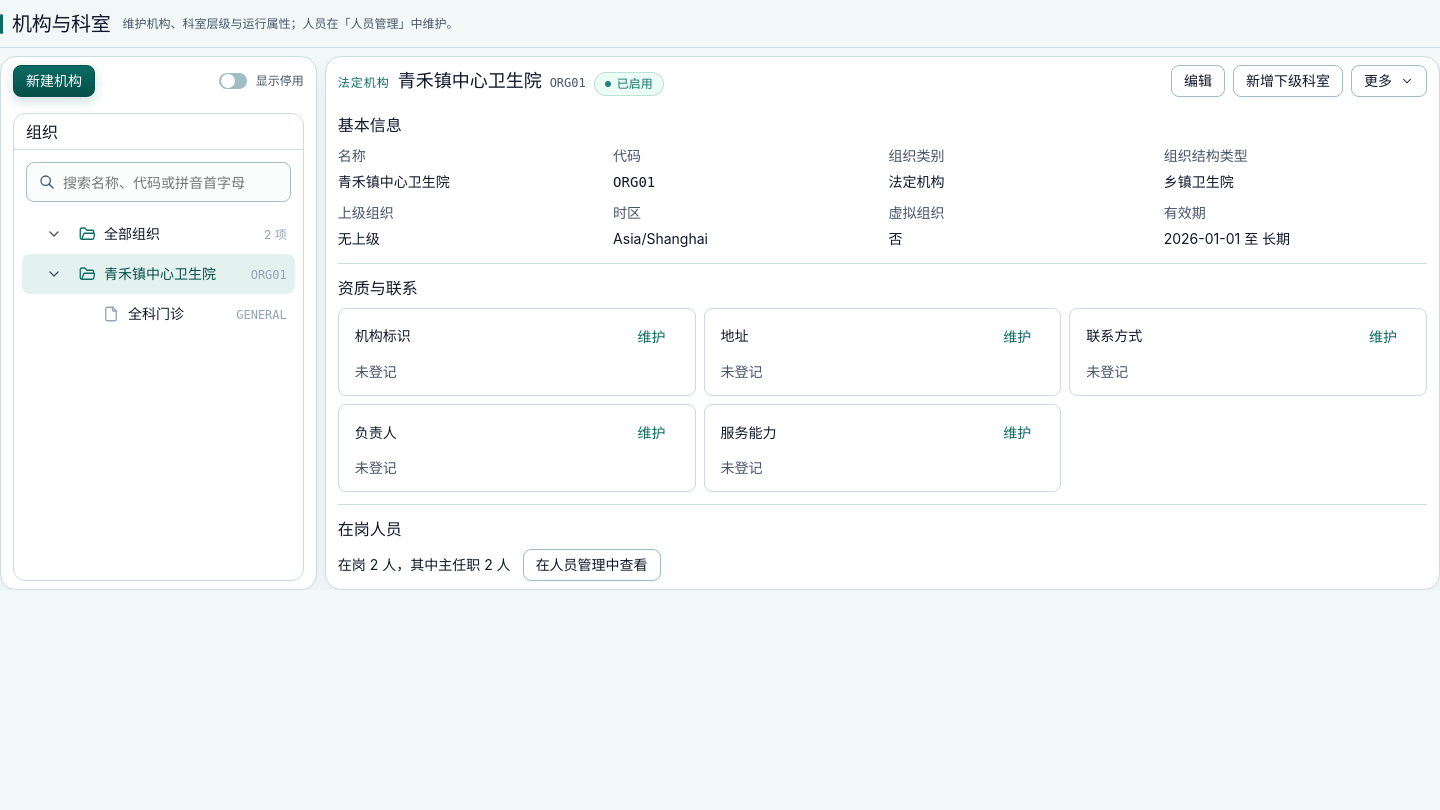
OrganizationsPage › edits basic information in a dialog with validity dates under more settings
The image size is (1440, 810).
Expected: the heading "青禾镇中心卫生院" is shown, [398, 66, 542, 94]
Click the button "编辑". click: x=1198, y=81
box: [1171, 65, 1225, 97]
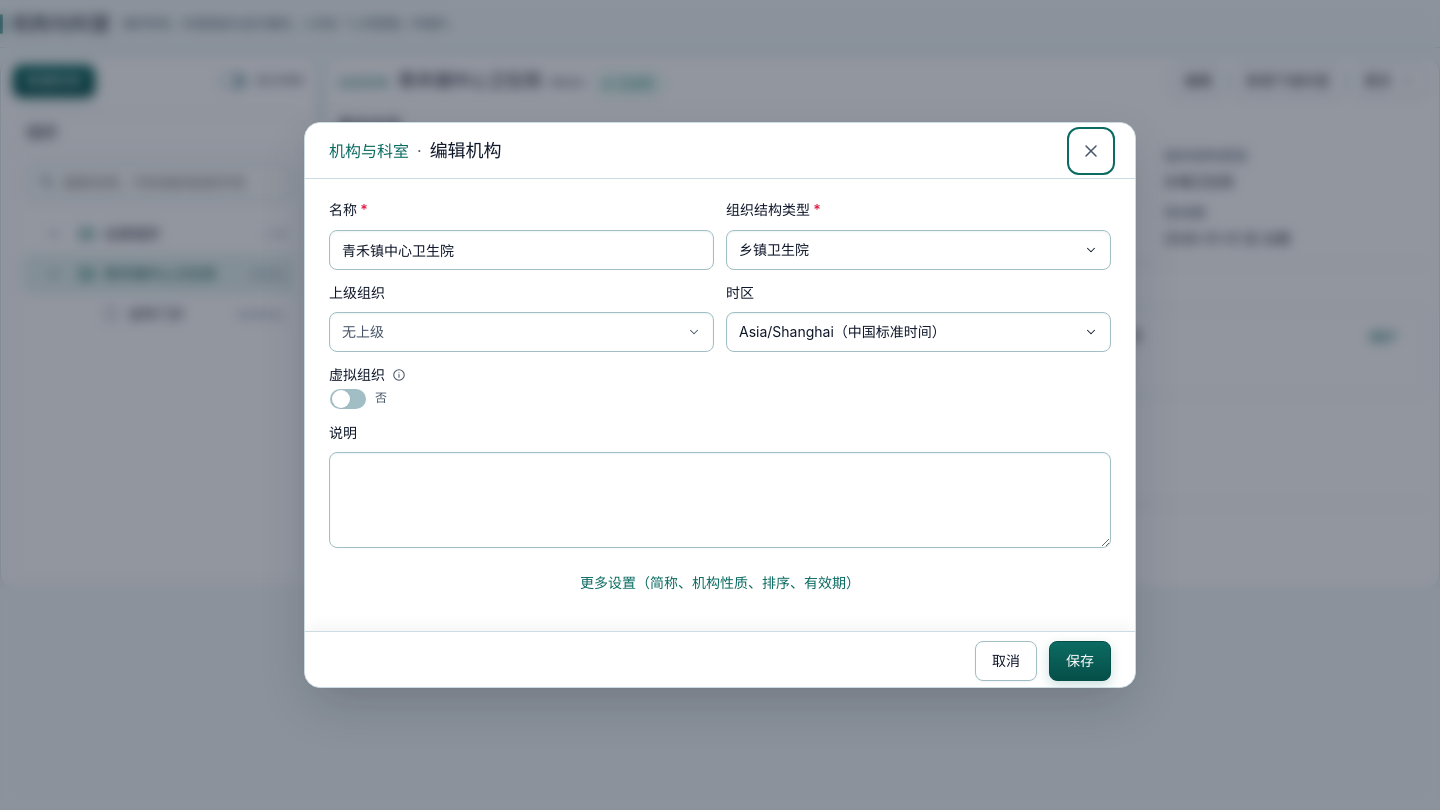
Expected: the field labelled "生效日期" is not shown
Click the button "更多设置（简称、机构性质、排序、有效期）". click: x=720, y=583
box: [329, 567, 1111, 599]
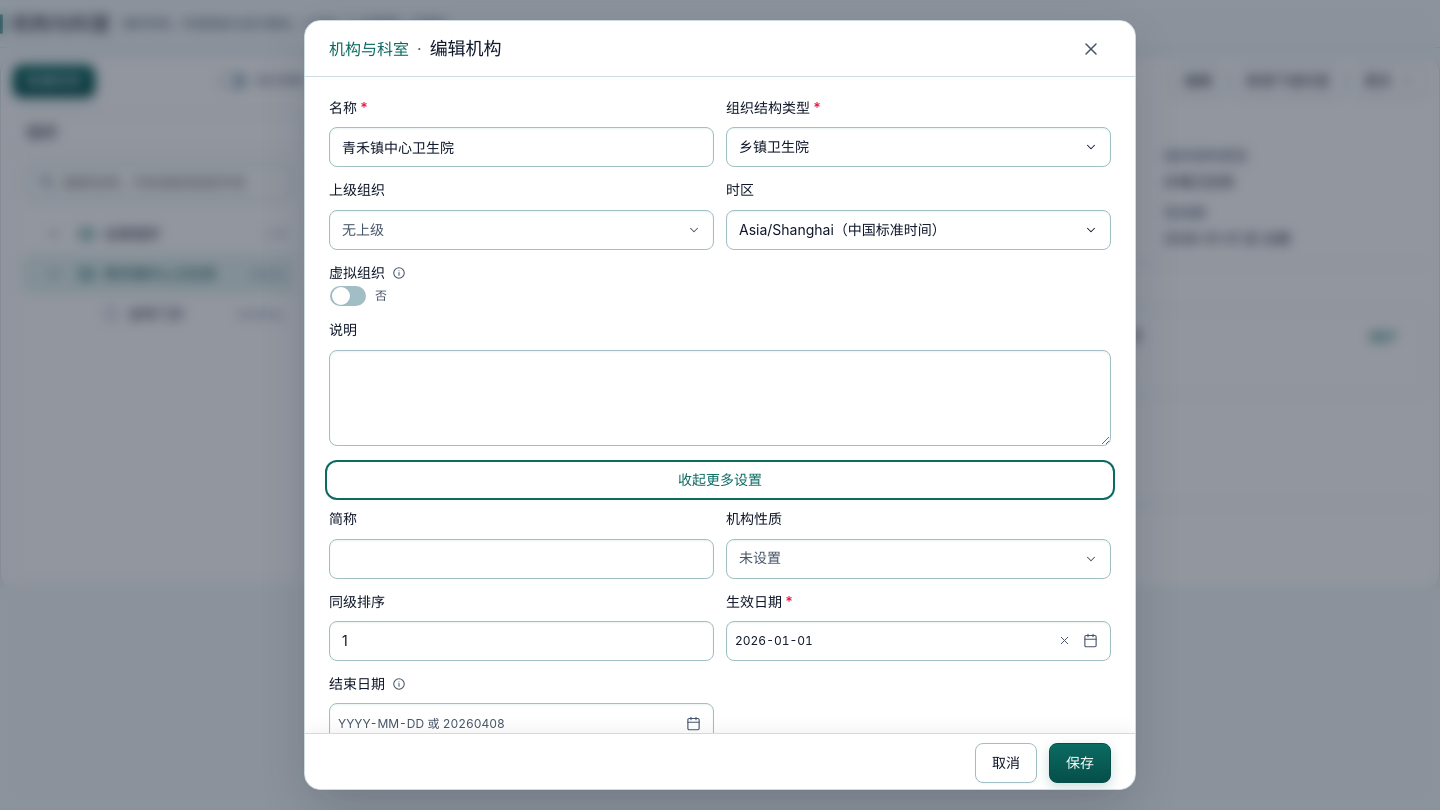
Now the field labelled "生效日期*" is shown, box [735, 622, 1050, 660]
Replace the text in the field labelled "名称*" with "青禾镇卫生院". click: x=522, y=147
box: [329, 127, 714, 167]
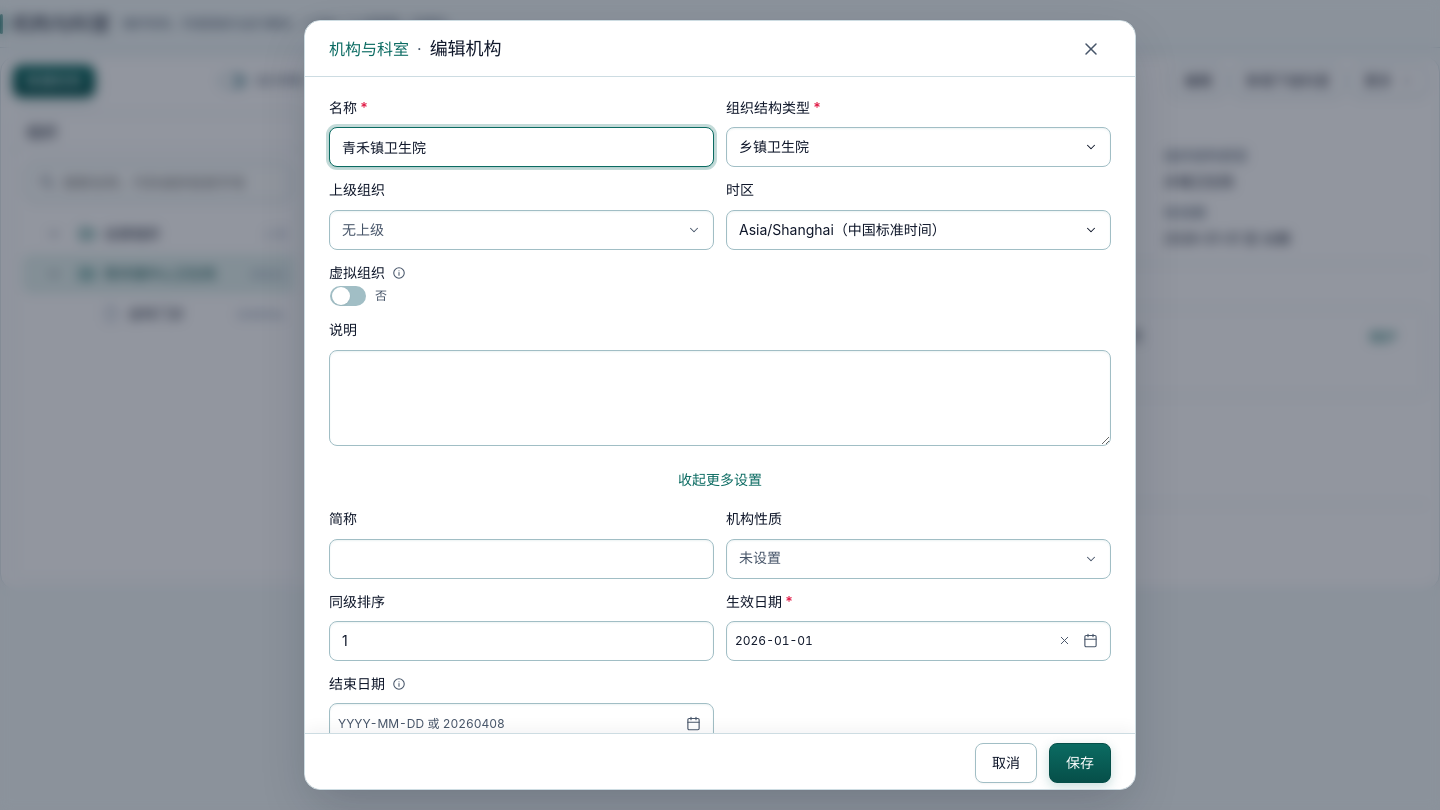
Click the button "保存". click: x=1080, y=764
box: [1049, 744, 1111, 784]
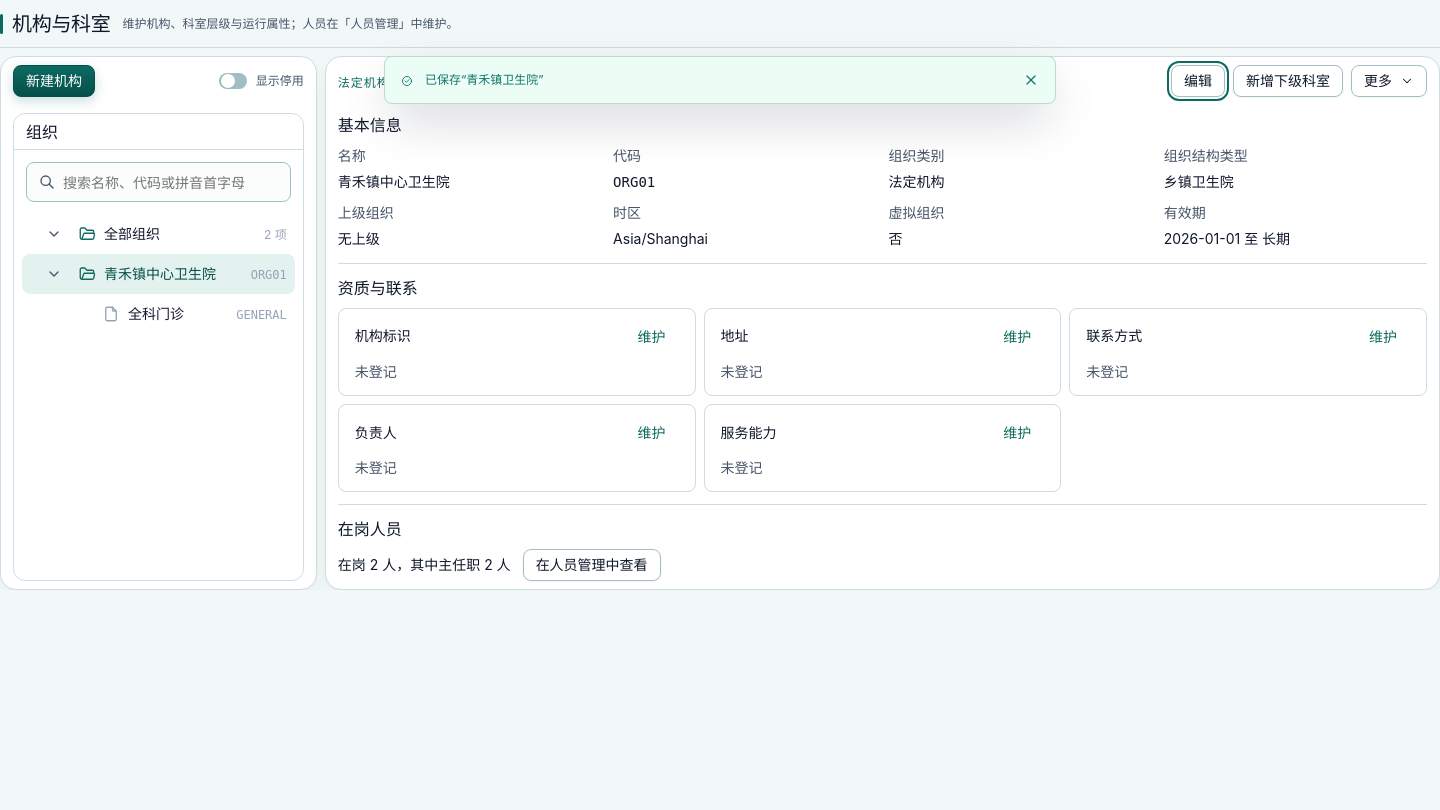
Now the dialog is gone
